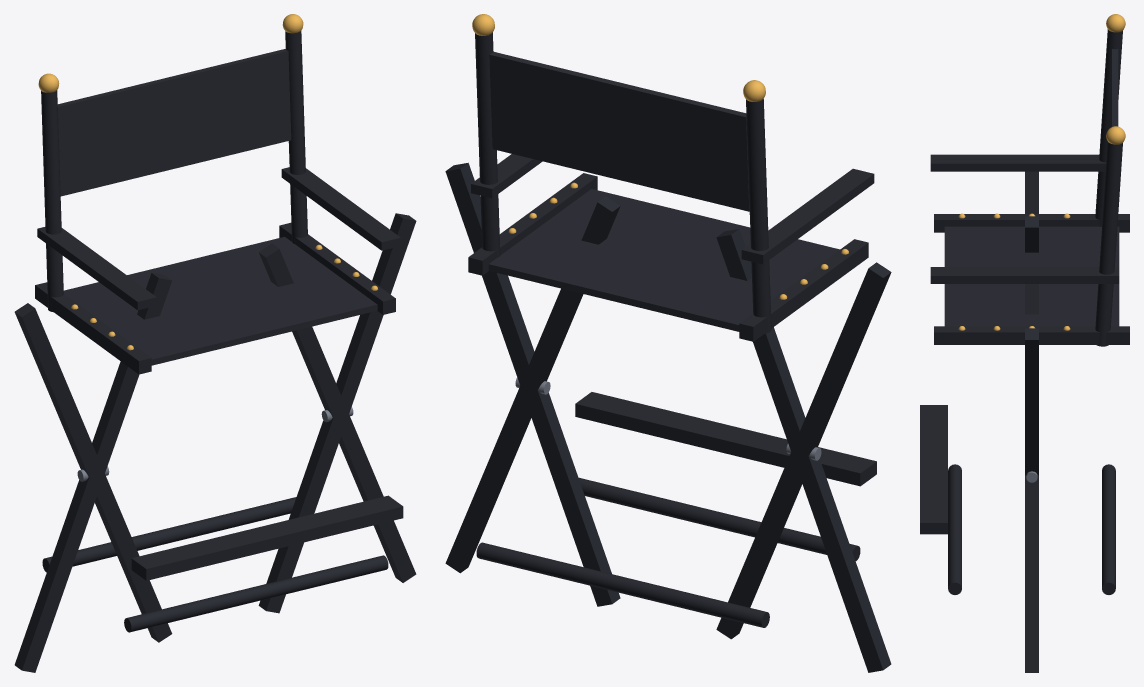
File: director-chair.glb
3 views of the same model, side by side, from view 1: azimuth 30°, elevation 25°; view 2: azimuth 150°, elevation 25°; view 3: azimuth 270°, elevation 25° (orthographic). The views are drawn at different scales.
Visible parts, largest first — view 1: DirectorsChair; view 2: DirectorsChair; view 3: DirectorsChair.
Boxes of the visible parts, x1,y1,x2,y2 form: DirectorsChair: (14,14,416,672); DirectorsChair: (445,14,891,672); DirectorsChair: (920,14,1129,672).
Bounding box in the file's own units: 1.23 × 1.63 × 0.6.
